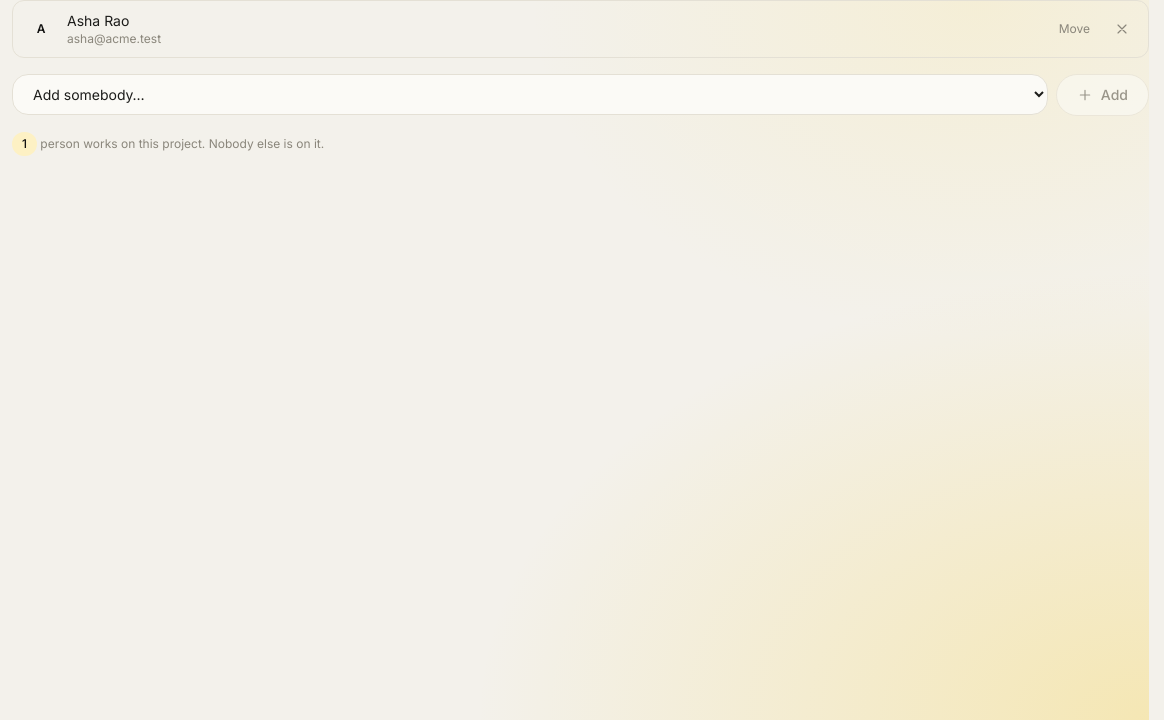
it: a project with people on it › takes somebody off
The image size is (1164, 720).
Click the button named "Take Asha Rao off" at (1122, 29), box [1110, 17, 1134, 41]
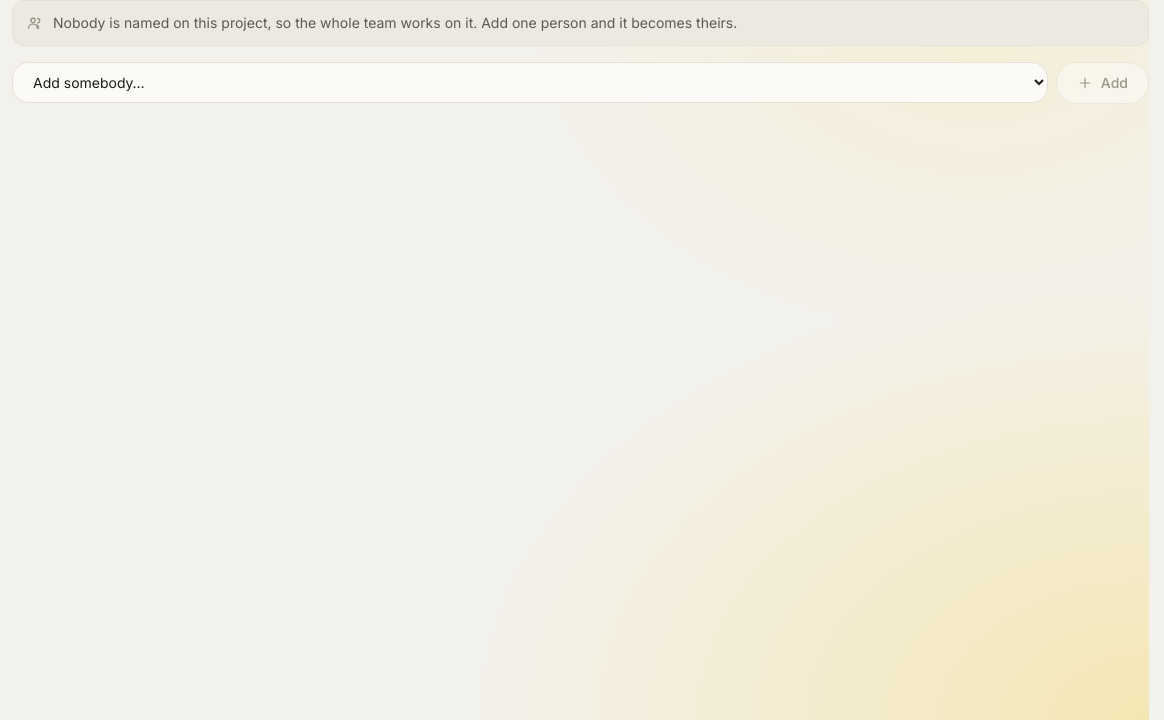
Check: the text "whole team works on it" is shown, box [53, 14, 737, 31]
